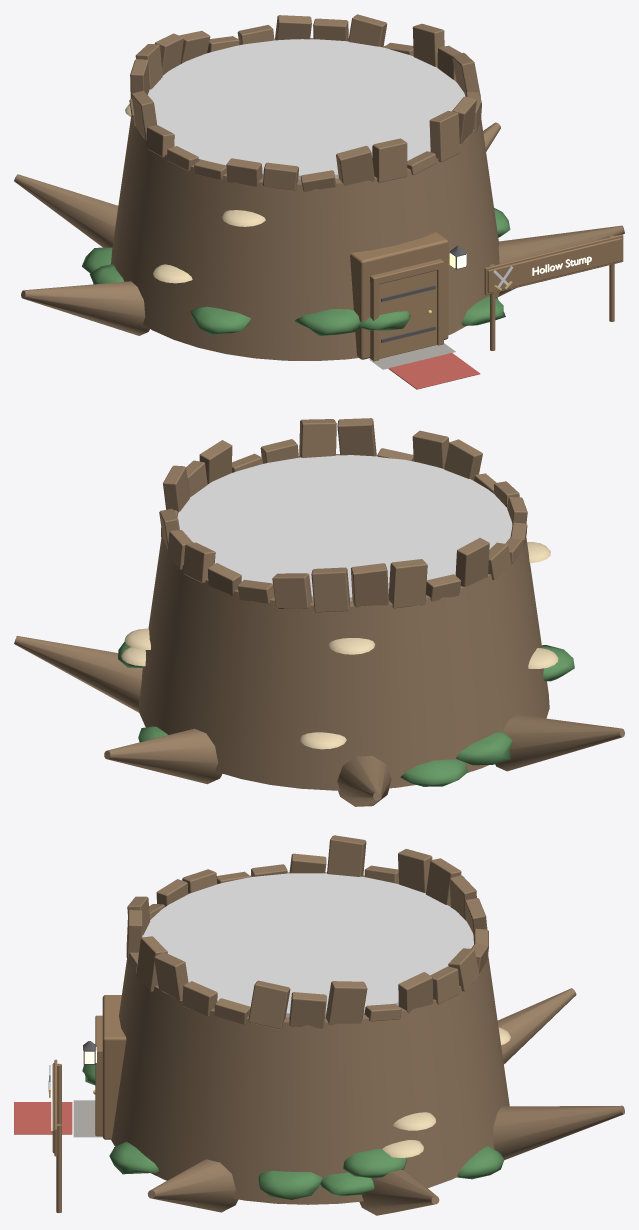
The model's file is hollow_stump.fbx.
3 views of the same model, one above another, from view 1: azimuth 30°, elevation 25°; view 2: azimuth 150°, elevation 25°; view 3: azimuth 270°, elevation 25° (orthographic). The views are drawn at different scales.
Visible parts, largest first — view 1: hollow_stump; view 2: hollow_stump; view 3: hollow_stump.
Part boxes in pixels (left/top/right/bottom): hollow_stump: left=14, top=14, right=624, bottom=389; hollow_stump: left=14, top=418, right=624, bottom=806; hollow_stump: left=14, top=835, right=624, bottom=1215.
Size of the model in its own units: 21.73 by 8.63 by 21.
